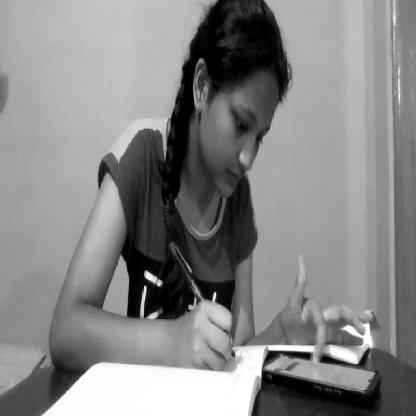Distracted: (176, 0, 293, 215)
